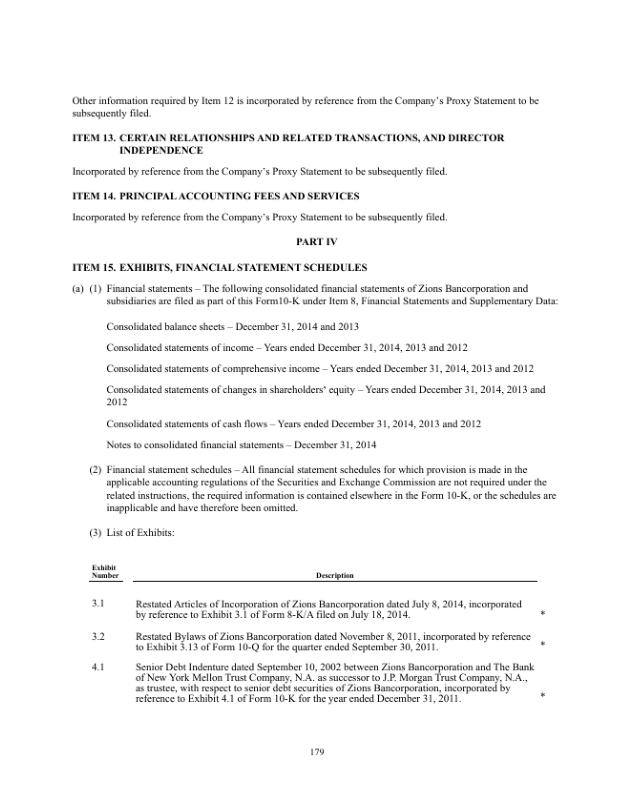table: (86, 559, 549, 709)
